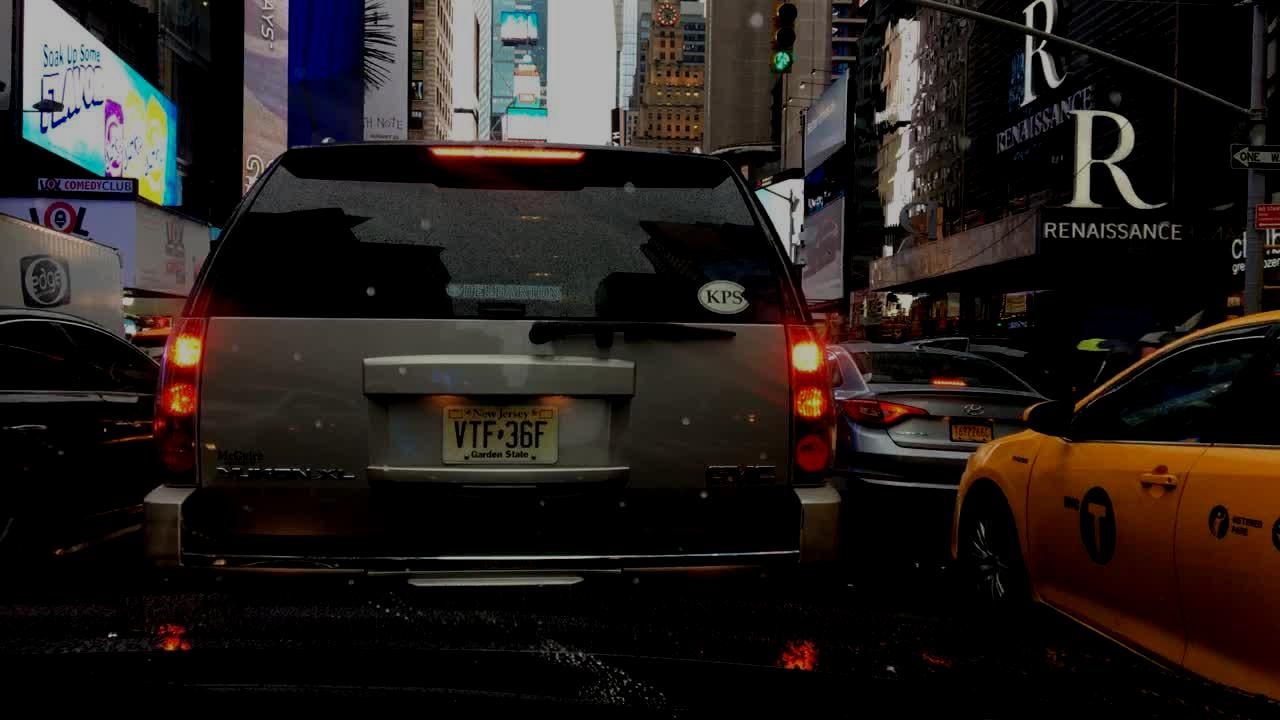GMC: (706, 452, 781, 501)
Hyundai: (961, 401, 989, 420)
